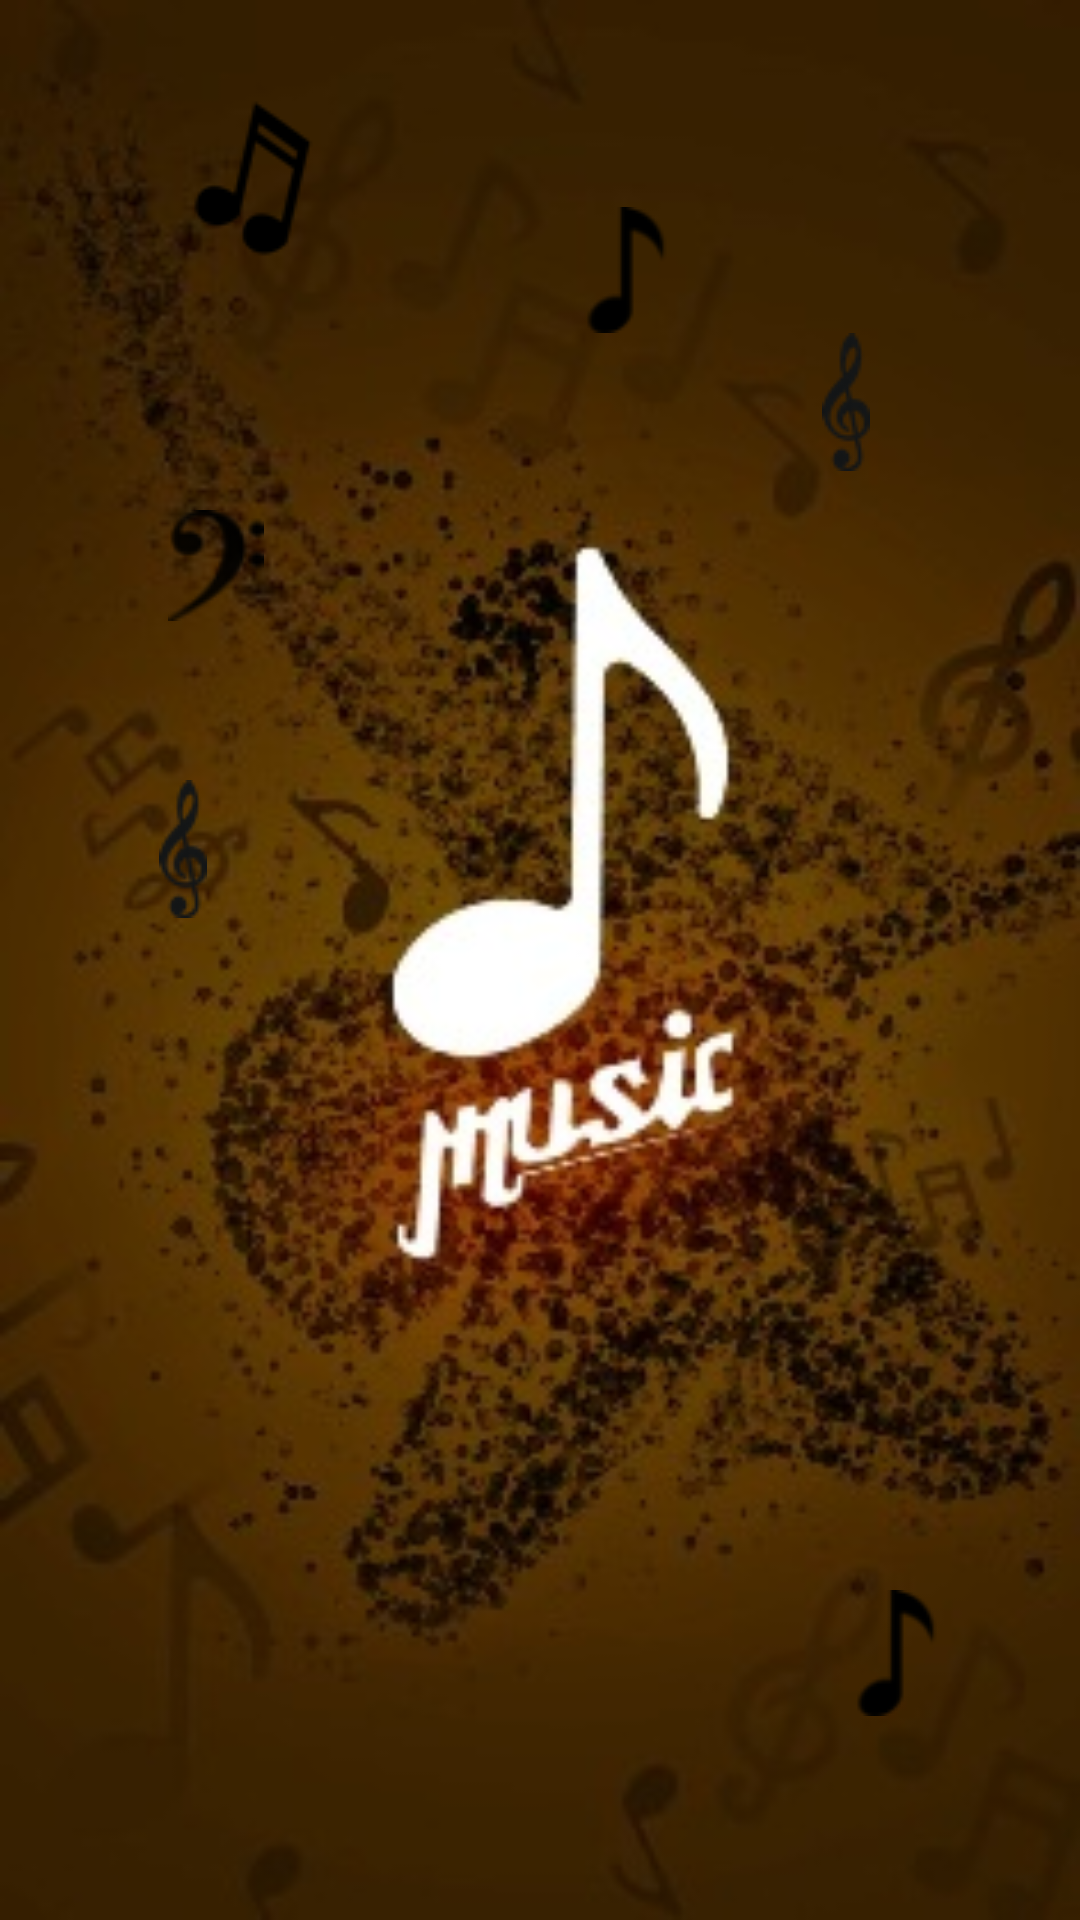

Named icons in this screenshot (1080px×1920px) and their centers, point (x, y):
musica: point (248, 178)
musicb: point (626, 270), point (896, 1653)
musicc: point (846, 402), point (183, 849)
musicd: point (216, 565)
